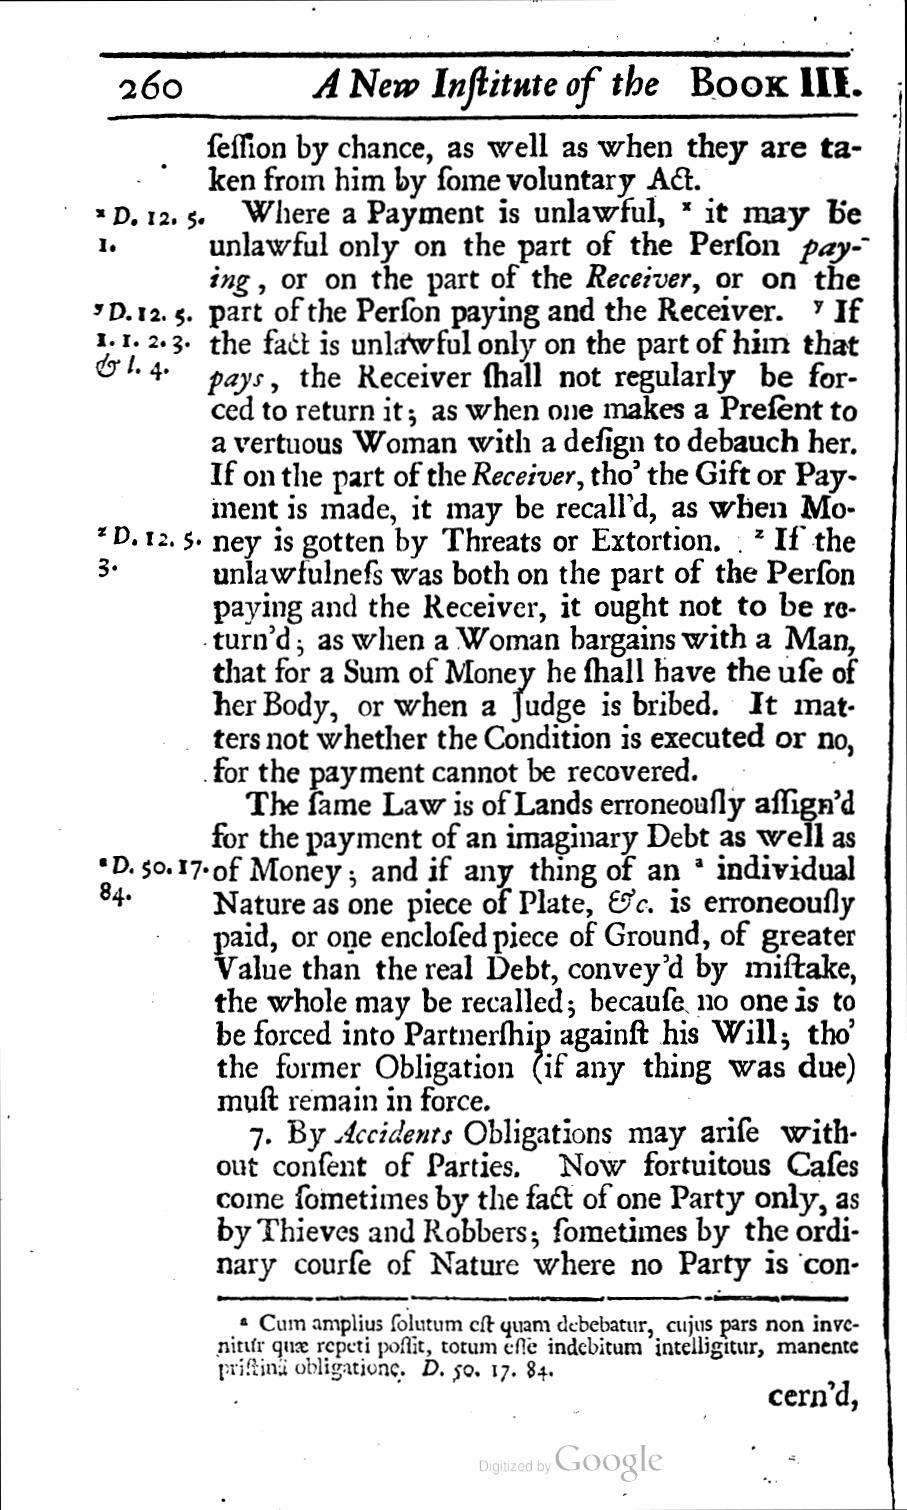bottom_p: (206, 126, 868, 196)
catchword: (766, 1378, 858, 1416)
footnotes: (212, 1308, 864, 1384)
full_p: (206, 194, 866, 786), (208, 786, 862, 1116)
header: (308, 58, 864, 108)
page_num: (112, 66, 192, 108)
print_marg: (88, 296, 196, 382), (90, 518, 208, 586), (86, 196, 208, 258), (94, 846, 210, 908)
top_p: (214, 1120, 862, 1283)
